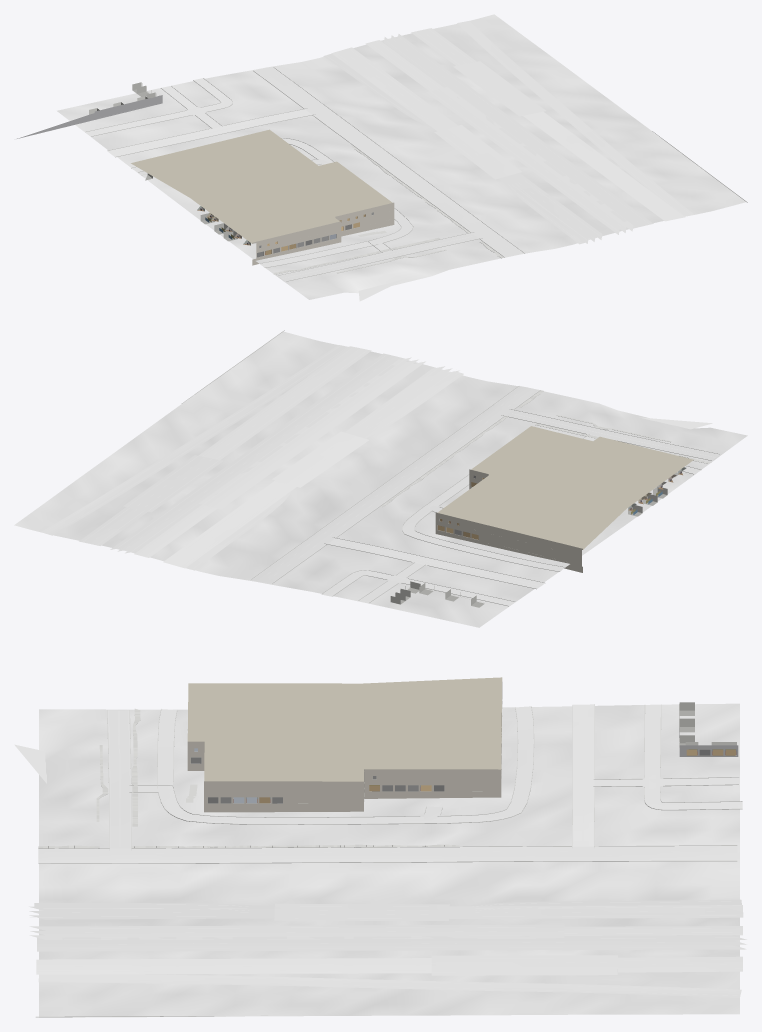
3 views of the same model, one above another, from view 1: azimuth 30°, elevation 25°; view 2: azimuth 150°, elevation 25°; view 3: azimuth 270°, elevation 25° (orthographic). The views are drawn at different scales.
Parts seen in each view (by area): view 1: ground, asphalt, roof_flat, wall_com, concrete, curb, mark_w, mark_y, walk, room; view 2: ground, asphalt, roof_flat, concrete, wall_com, curb, mark_w, mark_y, room, walk; view 3: ground, asphalt, roof_flat, concrete, wall_com, curb, mark_w, mark_y, walk, room, glass, glass_lit.
Part boxes in pixels (box(x1,y1,x2,y2)): ground: box(57, 14, 746, 299); asphalt: box(107, 21, 694, 281); roof_flat: box(131, 129, 392, 243); wall_com: box(17, 95, 394, 265); concrete: box(85, 78, 412, 267); curb: box(85, 67, 747, 281); mark_w: box(108, 22, 691, 281); mark_y: box(113, 23, 684, 278); walk: box(273, 145, 504, 274); room: box(89, 82, 365, 255); ground: box(14, 331, 747, 627); asphalt: box(41, 345, 719, 588); roof_flat: box(437, 426, 693, 549); concrete: box(322, 434, 701, 605); wall_com: box(435, 469, 582, 572); curb: box(181, 330, 719, 606); mark_w: box(43, 346, 718, 588); mark_y: box(50, 347, 715, 586); room: box(390, 467, 686, 607); walk: box(380, 390, 711, 507); ground: box(39, 703, 739, 1017); asphalt: box(29, 704, 746, 997); roof_flat: box(187, 677, 502, 781); concrete: box(131, 704, 742, 824); wall_com: box(187, 682, 738, 812); curb: box(36, 704, 742, 1017); mark_w: box(36, 704, 742, 995); mark_y: box(30, 705, 741, 991); walk: box(38, 708, 459, 848); room: box(233, 702, 736, 803); glass: box(191, 749, 710, 803); glass_lit: box(194, 748, 735, 803).
Size of the model in its own units: 287 by 15.33 by 262.
